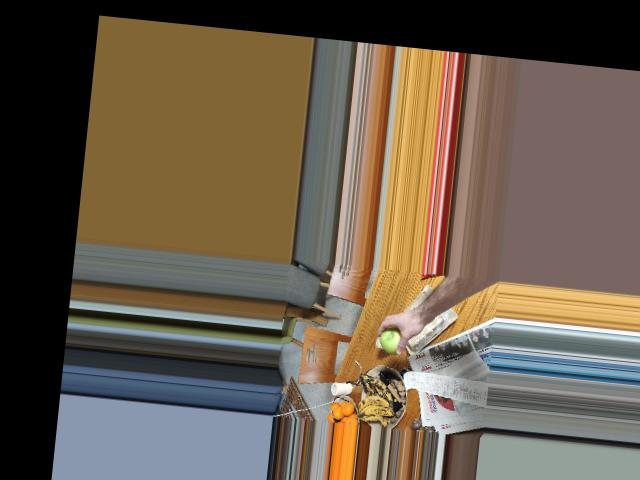apple: (377, 323, 407, 354)
